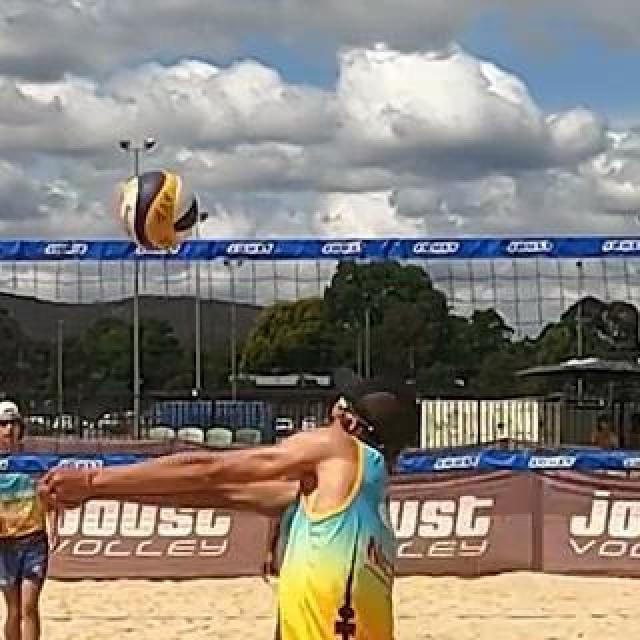volleyball: (115, 169, 195, 251)
